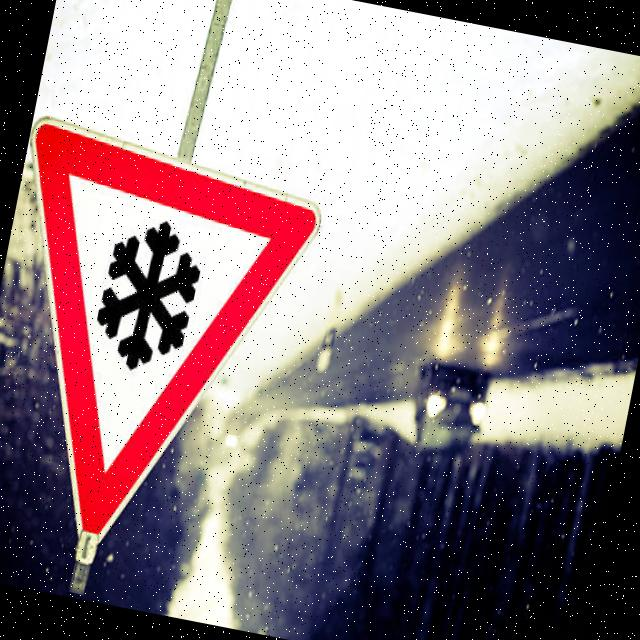snow_warning: (0, 103, 338, 598)
